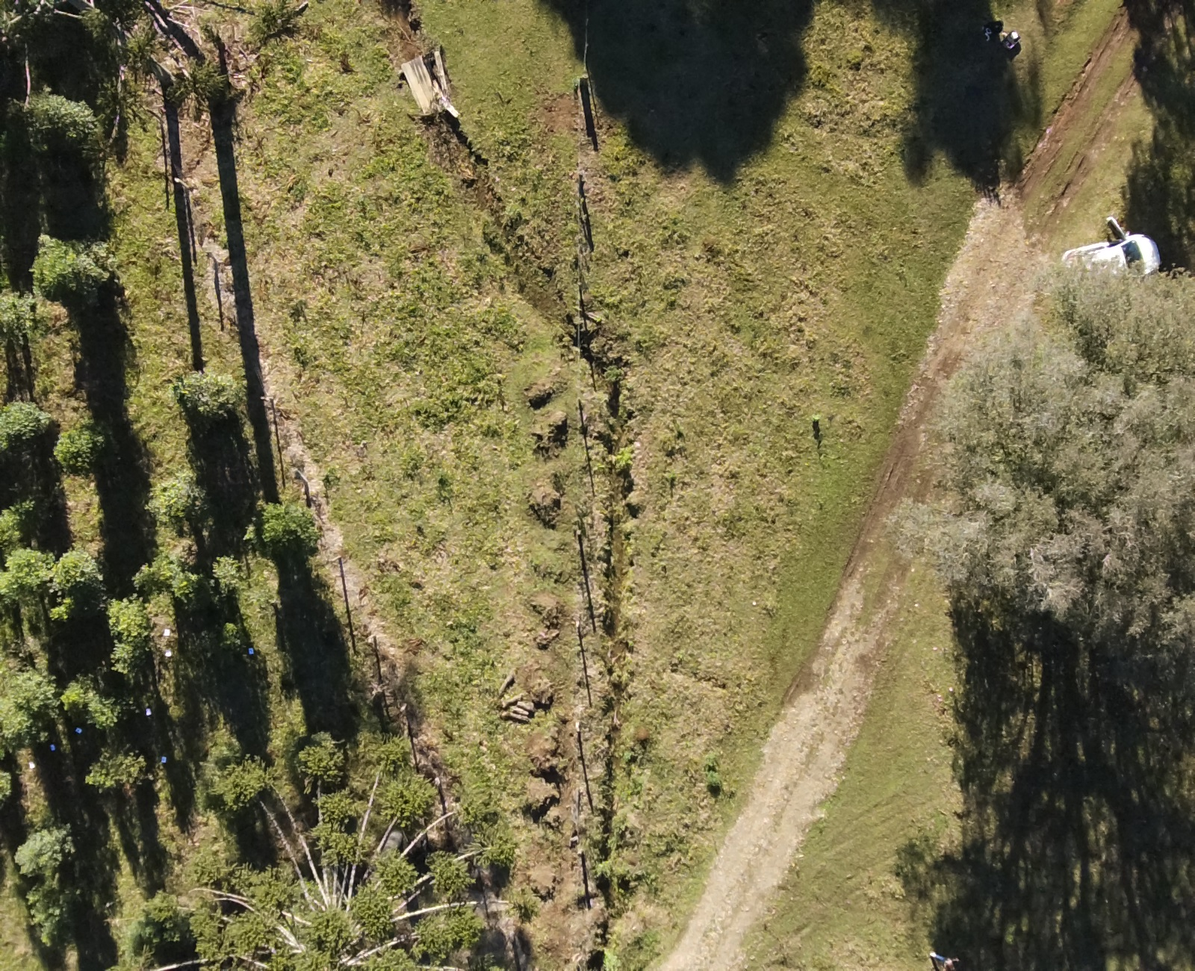erva: (12, 84, 101, 164), (255, 480, 332, 565), (164, 353, 248, 430), (25, 229, 111, 303), (71, 742, 164, 793), (10, 880, 77, 943), (149, 469, 218, 529), (46, 417, 112, 477), (0, 657, 60, 717), (4, 534, 63, 594), (10, 818, 75, 869), (0, 396, 51, 459), (0, 280, 43, 344), (57, 542, 116, 585), (100, 590, 155, 636), (133, 553, 187, 598), (105, 633, 156, 677), (0, 708, 48, 751), (209, 548, 244, 601), (51, 674, 89, 722), (207, 615, 245, 658), (91, 696, 128, 731), (170, 572, 205, 605), (46, 592, 83, 621), (0, 570, 27, 609), (0, 763, 20, 812)
